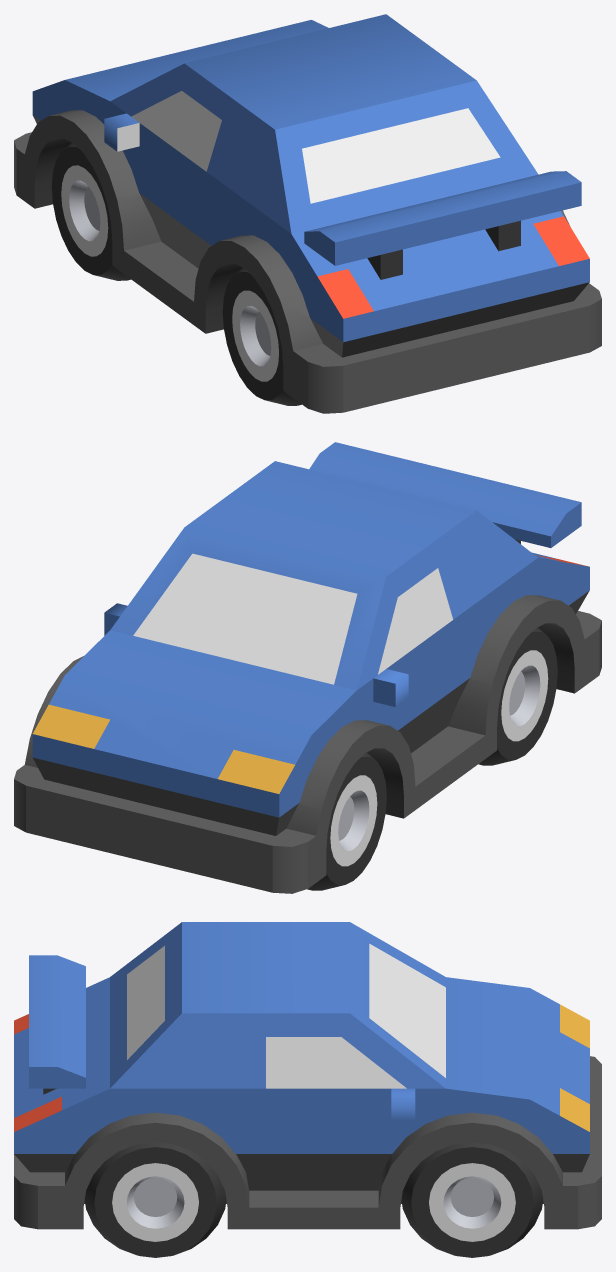
Rendered from sedanSportsBlue.glb.
3 views of the same model, one above another, from view 1: azimuth 30°, elevation 25°; view 2: azimuth 150°, elevation 25°; view 3: azimuth 270°, elevation 25° (orthographic). The views are drawn at different scales.
Parts seen in each view (by area): view 1: body, spoiler, wheel_backLeft, wheel_frontLeft; view 2: body, spoiler, wheel_frontLeft, wheel_backLeft; view 3: body, wheel_backRight, wheel_frontRight, spoiler.
Part boxes in pixels (box(x1,y1,x2,y2)): body: box(14, 14, 601, 413); spoiler: box(304, 171, 581, 279); wheel_backLeft: box(222, 267, 301, 405); wheel_frontLeft: box(51, 142, 130, 280); body: box(14, 461, 601, 893); spoiler: box(309, 442, 581, 547); wheel_frontLeft: box(307, 752, 386, 890); wheel_backLeft: box(478, 627, 557, 765); body: box(14, 922, 601, 1229); wheel_backRight: box(84, 1142, 226, 1257); wheel_frontRight: box(401, 1142, 543, 1257); spoiler: box(29, 955, 85, 1094).
Size of the model in its own units: 1.3 by 1.1 by 2.45.
